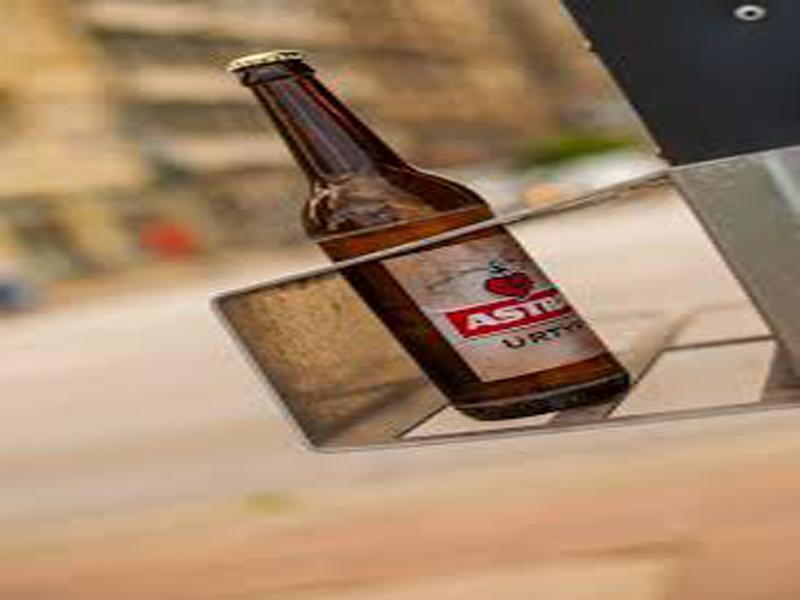Beer: (223, 48, 634, 421)
